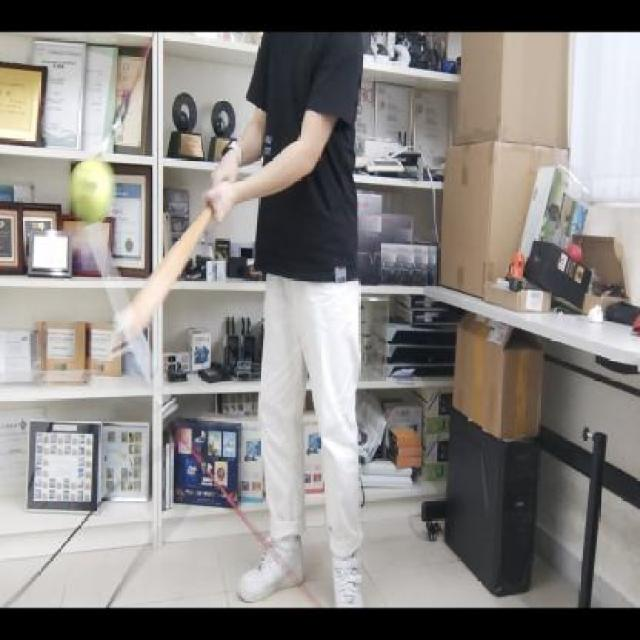baseball: (67, 154, 111, 223)
